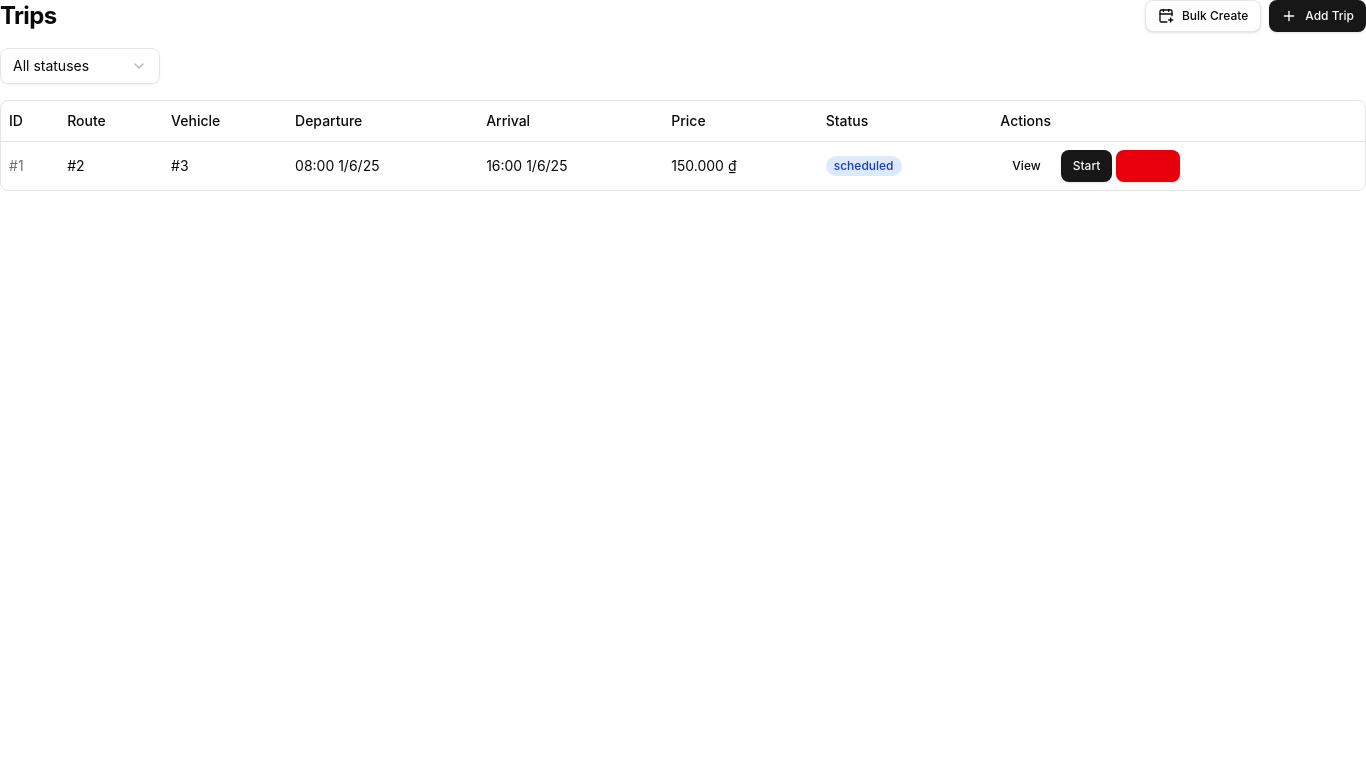
it: TripsPage › closes trip view dialog and resets viewTrip state
Step 1. Click the button "View" → (1027,166), box [1000,150,1053,182]
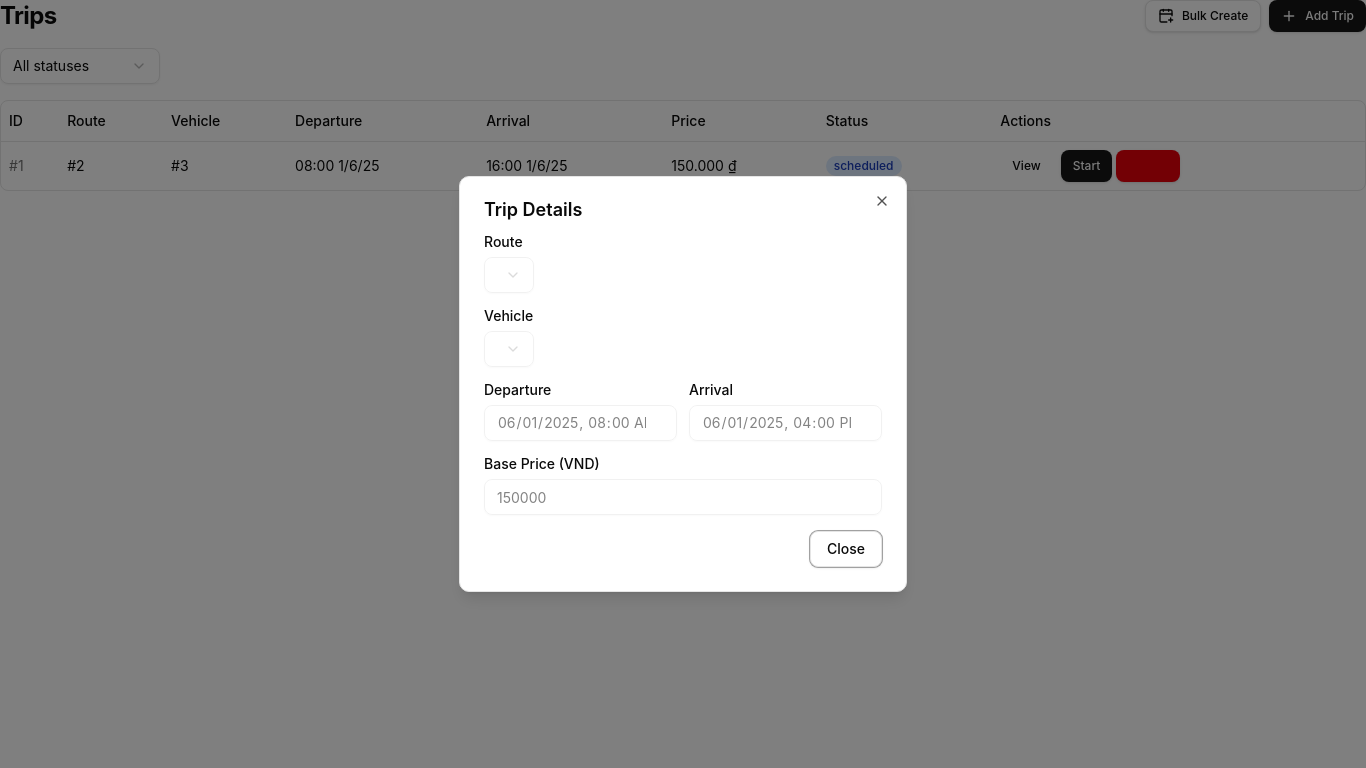
Result: the heading "Trip Details" is shown at [484,199,582,220]
Note: Close the dialog with the Close button
Step 2. Click the button "Close" → (846,549), box [810,531,882,567]
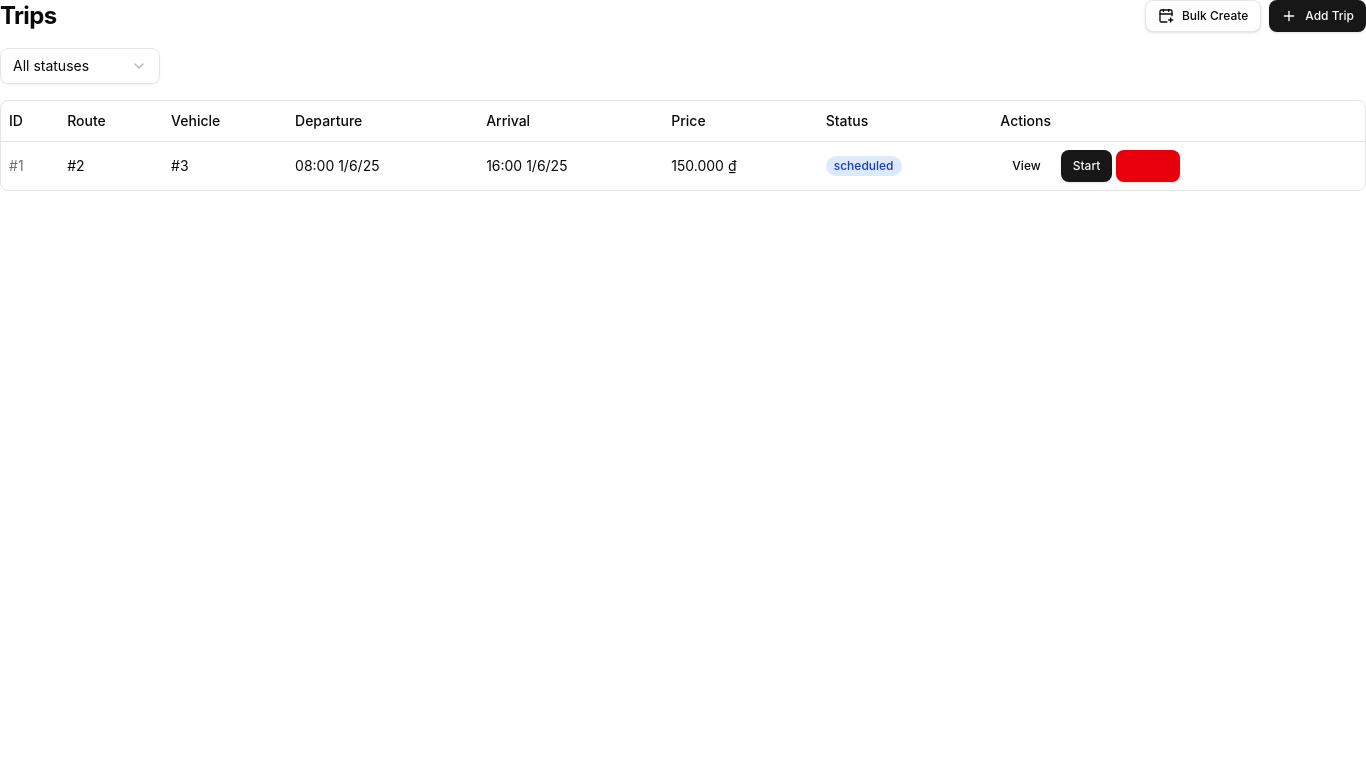
Result: the dialog is gone
Note: After closing view, clicking Add Trip opens create mode
Step 3. Click the button "Add Trip" → (1318,16), box [1269,0,1365,32]
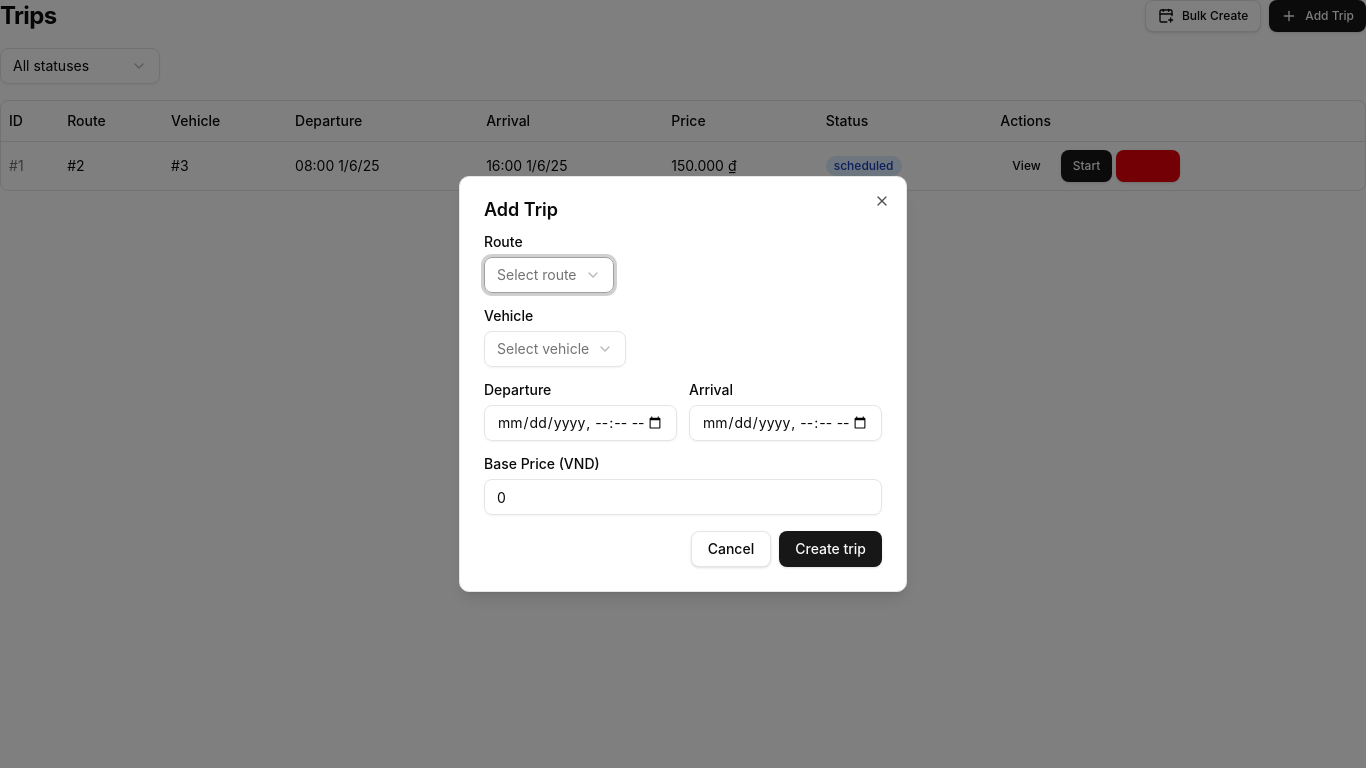
Result: the dialog is shown at [459,176,907,592]
Result: the button "Create trip" is shown at [779,531,882,567]
